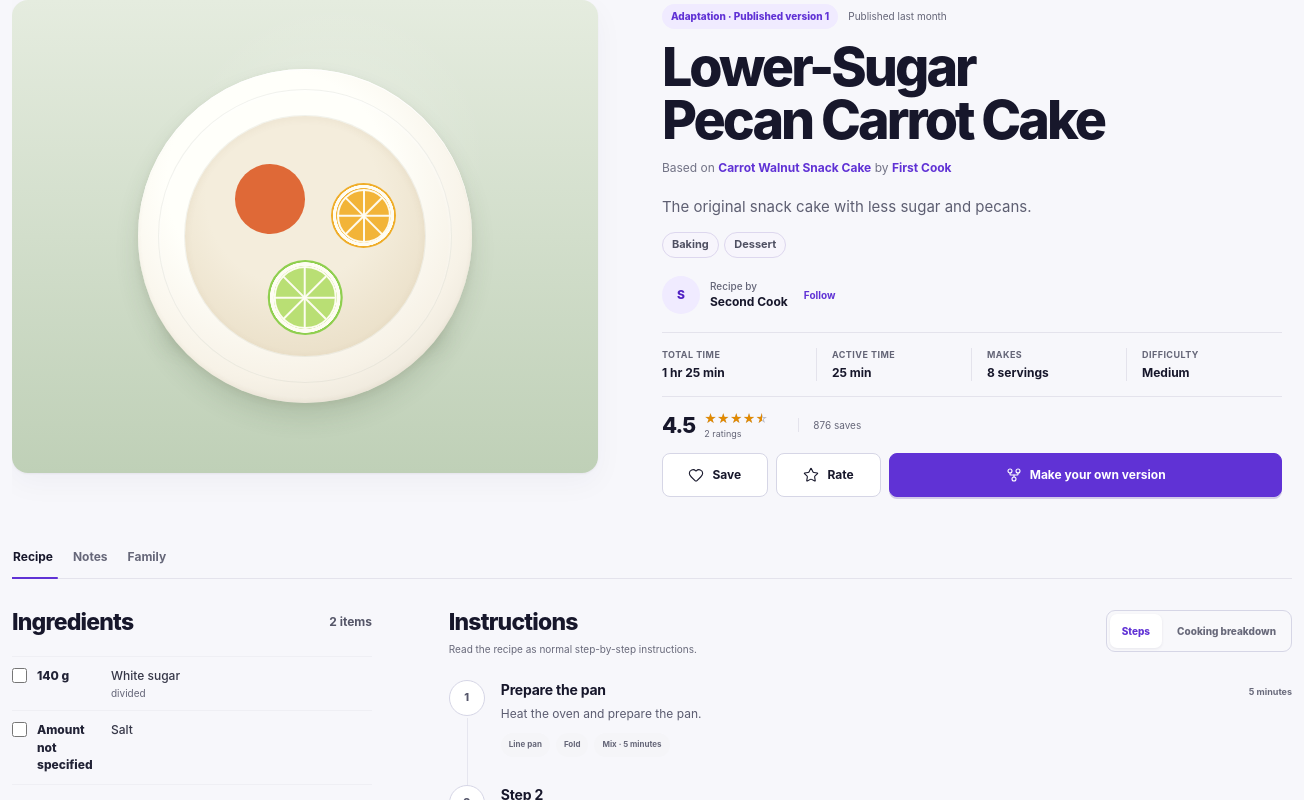
Test: RecipeDetailView › keeps prose primary while rendering ordered action structure and exact ingredient occurrences
Check: the text "Heat the oven and prepare the pan." is shown, box [501,706,702,721]
Check: the heading "Prepare the pan" is shown, box [501,681,606,699]
Click the tab "Cooking breakdown": (1227, 631) [1165,614,1288,648]
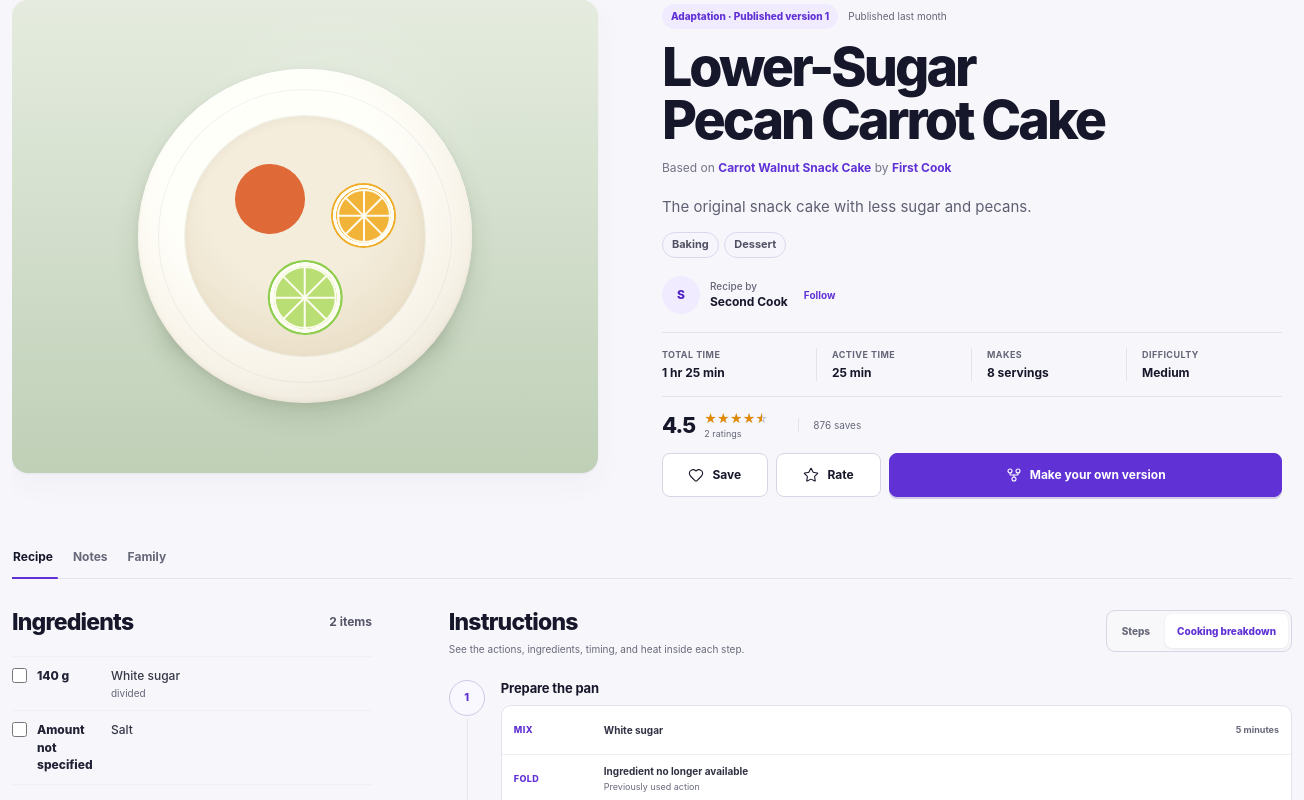
Check: the text "White sugar" next to "Mix" is shown, box [604,724,663,736]
Check: the text "Previously used action" is shown, box [604,781,700,792]
Check: the text "Ingredient no longer available" is shown, box [604,765,748,777]
Click the tab "Steps": (1136, 631) [1110,614,1162,648]
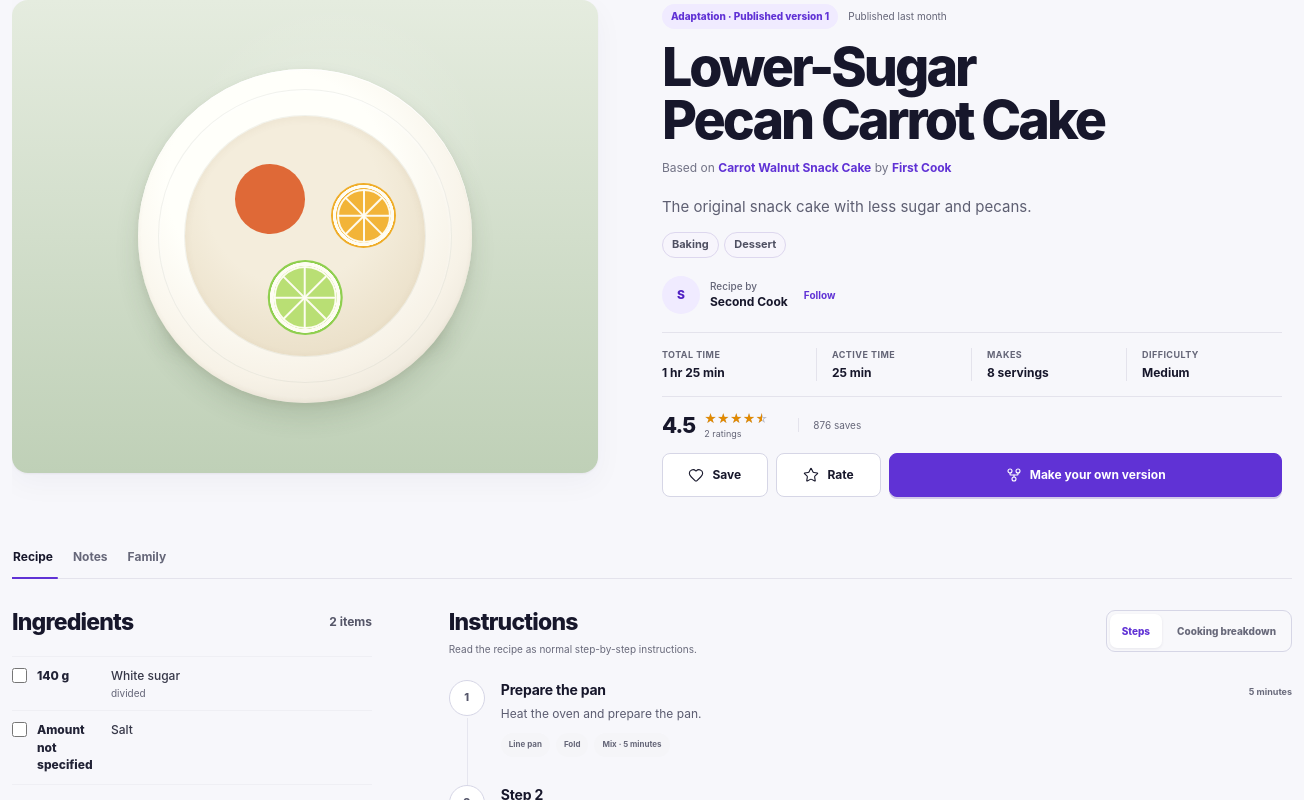
Check: the text "Heat the oven and prepare the pan." is shown, box [501,706,702,721]
Click the tab "Notes": (90, 563) [72,548,109,578]
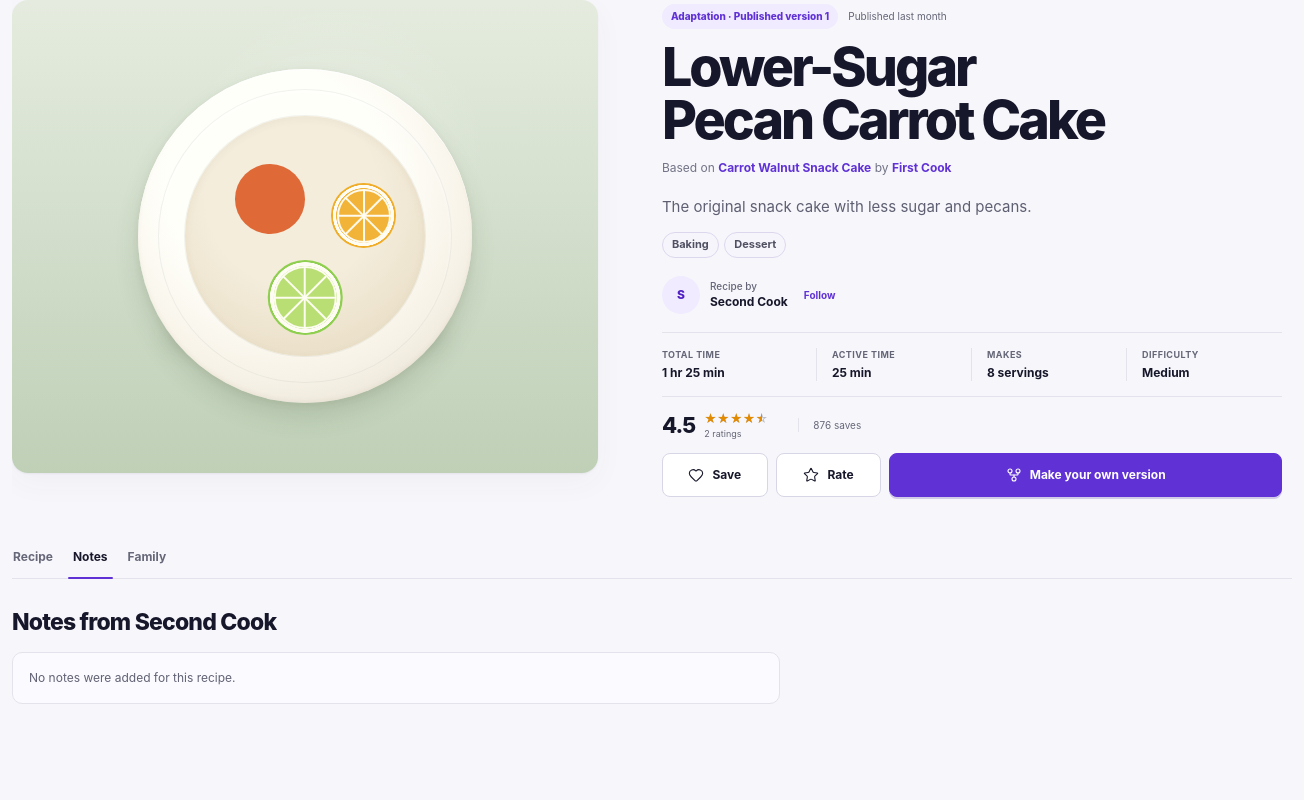
Check: the text "No notes were added for this recipe." is shown, box [12,652,780,704]
